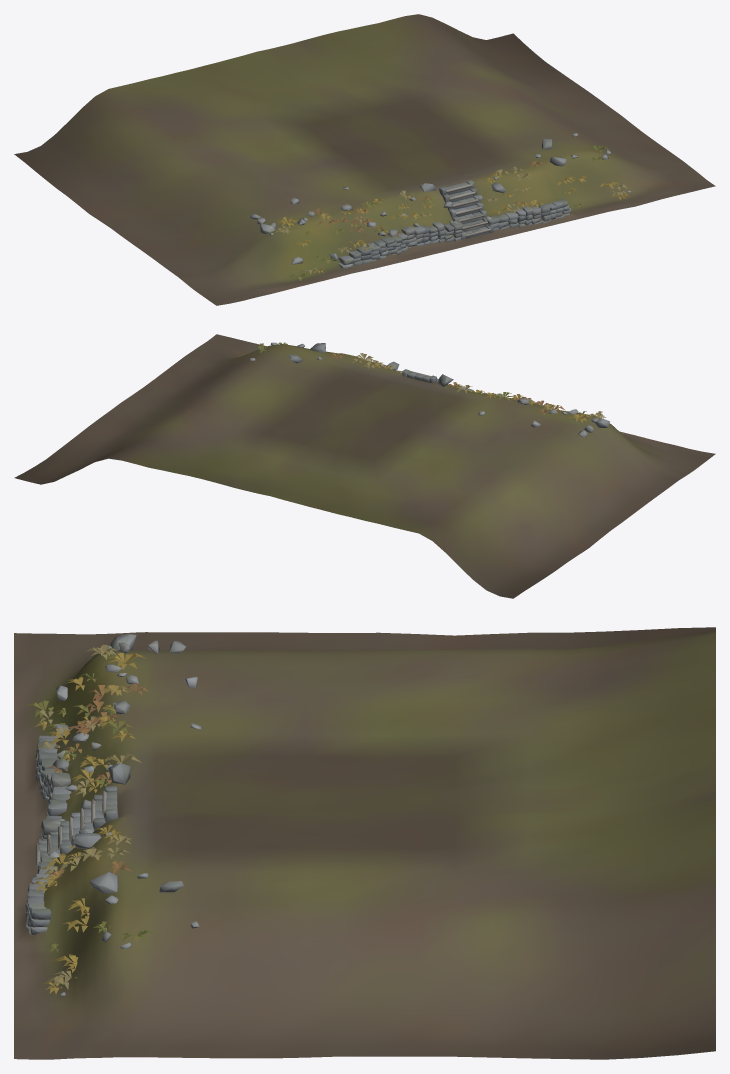
The model's file is terrain.glb.
3 renders of one model, top to bottom at view 1: azimuth 30°, elevation 25°; view 2: azimuth 150°, elevation 25°; view 3: azimuth 270°, elevation 25°, orthographic. The views are drawn at different scales.
Parts seen in each view (by area): view 1: terrain, terrain_stones, terrain_wood; view 2: terrain, terrain_stones; view 3: terrain, terrain_stones.
Boxes of the visible parts, bbox=[...] form: terrain: bbox=[14, 14, 715, 305]; terrain_stones: bbox=[249, 133, 630, 281]; terrain_wood: bbox=[446, 184, 491, 237]; terrain: bbox=[14, 334, 715, 598]; terrain_stones: bbox=[250, 342, 623, 437]; terrain: bbox=[14, 627, 715, 1059]; terrain_stones: bbox=[25, 633, 202, 996].
Size of the model in its own units: 29.6 by 2.97 by 20.8.
